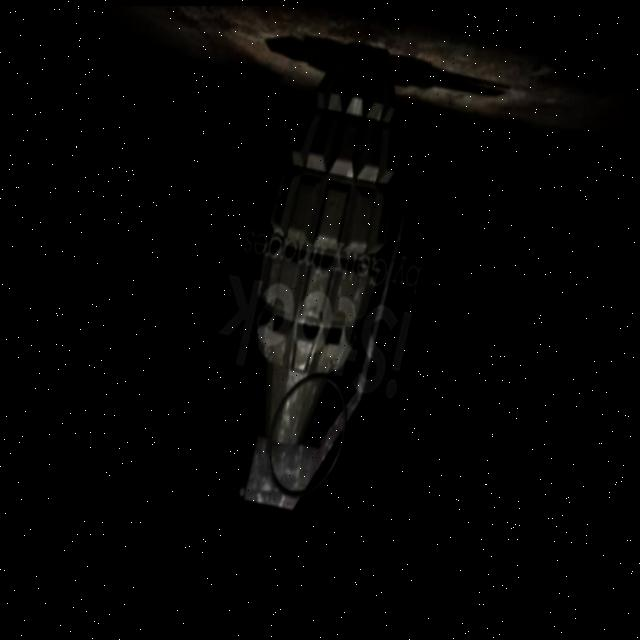grenade: (195, 34, 450, 547)
